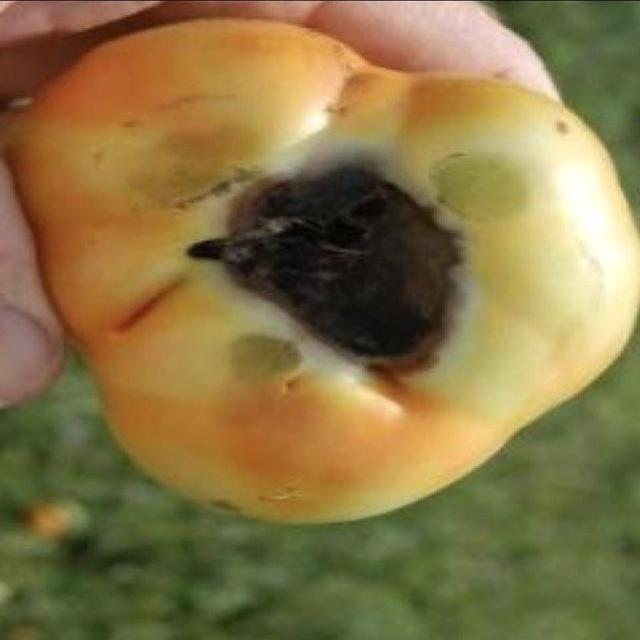Blossom End Rot Fruit: (102, 96, 324, 281)
